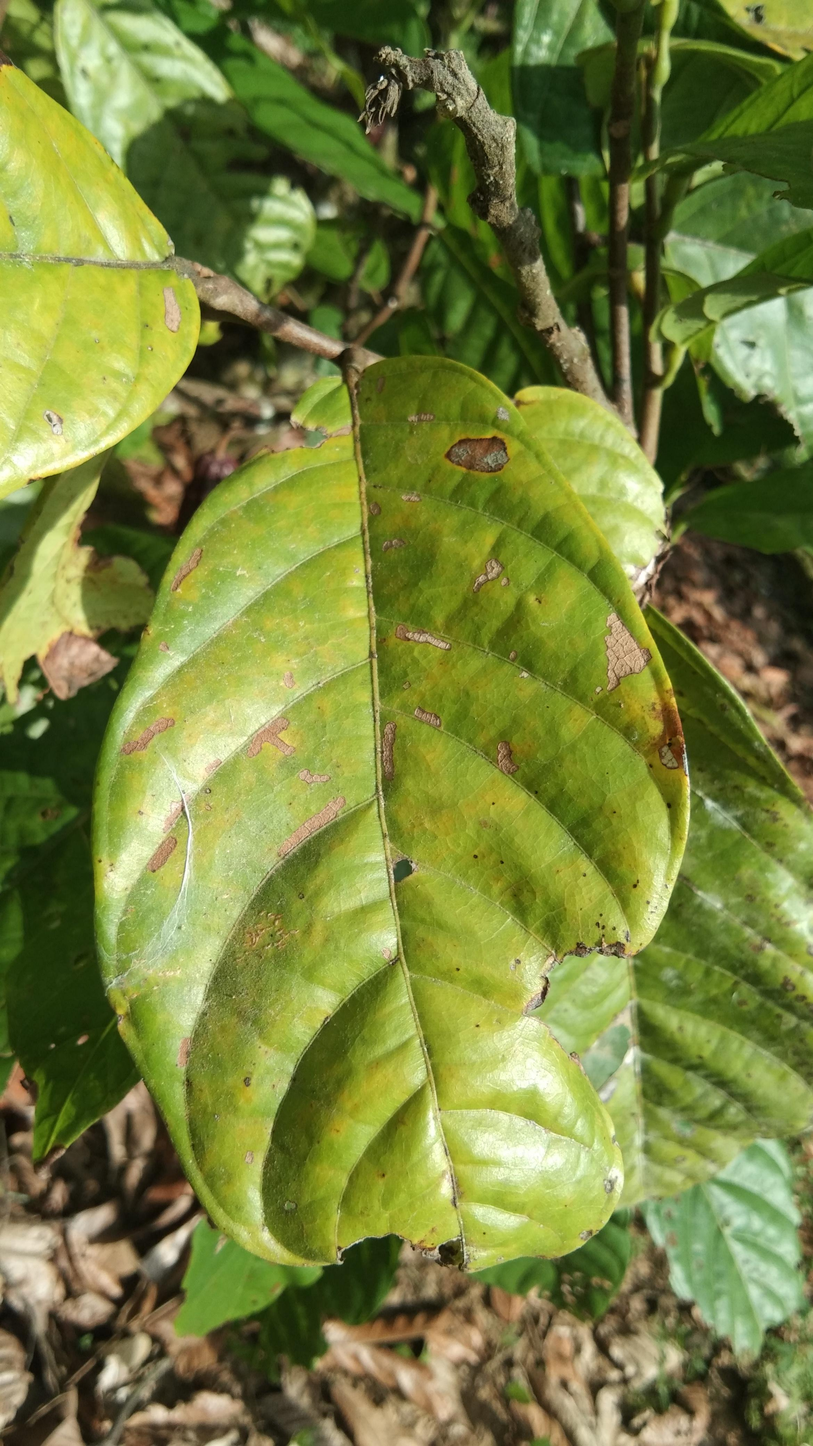deficiencia_potasio: (108, 368, 671, 1272)
